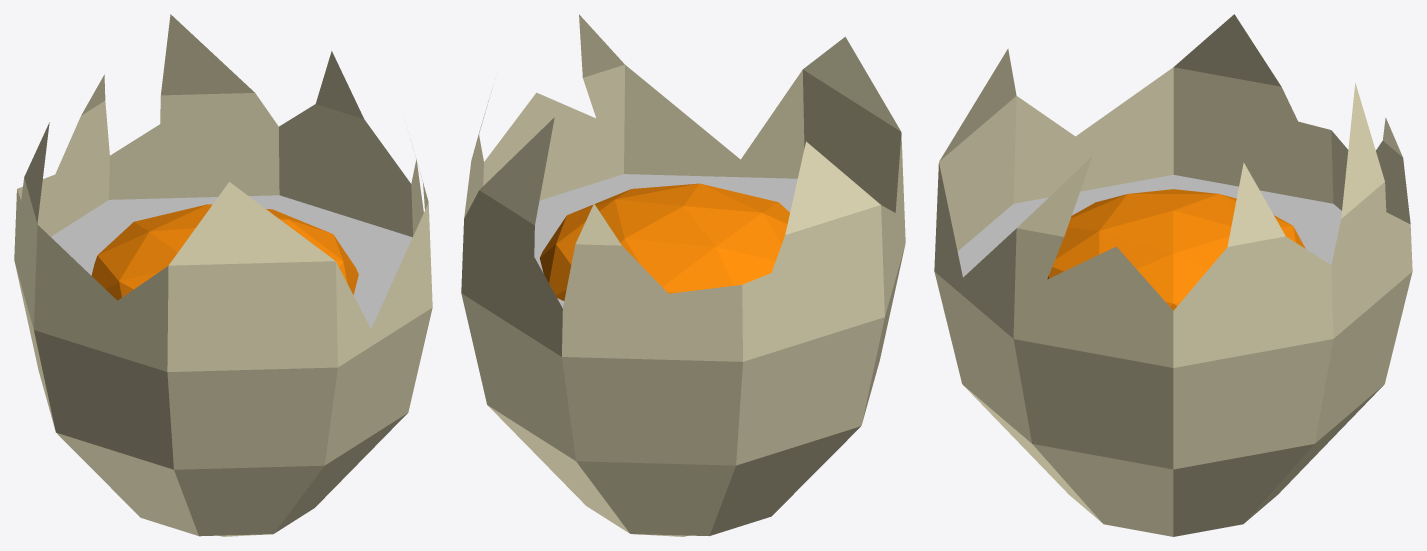
The model's file is Cracked Egg.fbx.
3 renders of one model, left to right at view 1: azimuth 30°, elevation 25°; view 2: azimuth 150°, elevation 25°; view 3: azimuth 270°, elevation 25°, orthographic. The views are drawn at different scales.
Parts seen in each view (by area): view 1: Cracked Egg; view 2: Cracked Egg; view 3: Cracked Egg.
Part boxes in pixels (x1,y1,x2,y2): Cracked Egg: (14, 14, 432, 536); Cracked Egg: (461, 14, 905, 536); Cracked Egg: (934, 14, 1412, 536).
Bounding box in the file's own units: 4.95 × 5.62 × 5.18.
